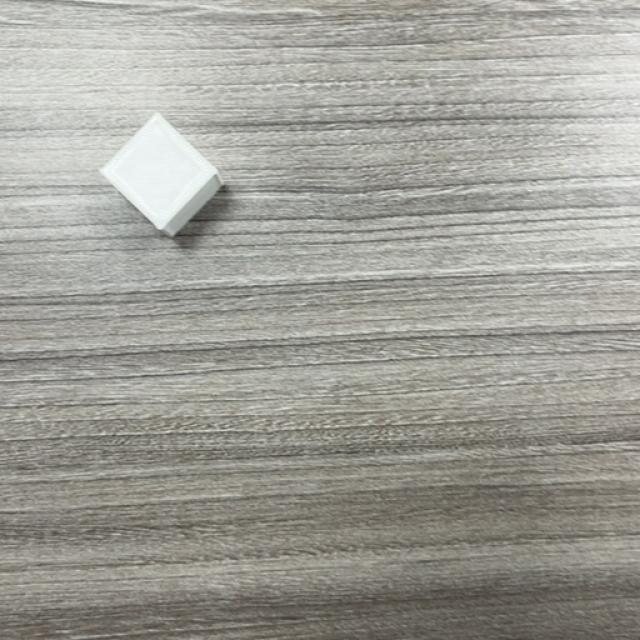Blanco: (100, 112, 226, 239)
